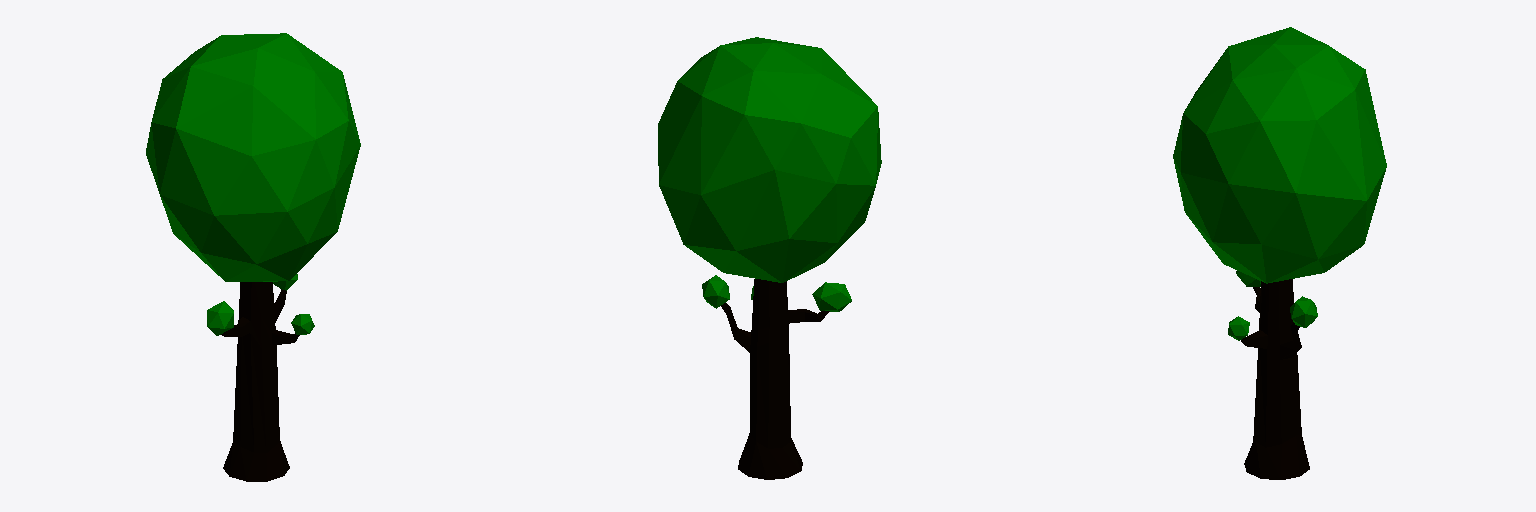
File: tree_b.obj
3 renders of one model, left to right at view 1: azimuth 30°, elevation 25°; view 2: azimuth 150°, elevation 25°; view 3: azimuth 270°, elevation 25°, orthographic.
Parts seen in each view (by area): view 1: tree_Icosphere; view 2: tree_Icosphere; view 3: tree_Icosphere.
Part boxes in pixels (bbox=[...]): tree_Icosphere: bbox=[146, 33, 360, 481]; tree_Icosphere: bbox=[658, 37, 881, 479]; tree_Icosphere: bbox=[1173, 27, 1386, 479].
Bounding box in the file's own units: 3.52 × 6.93 × 3.19.